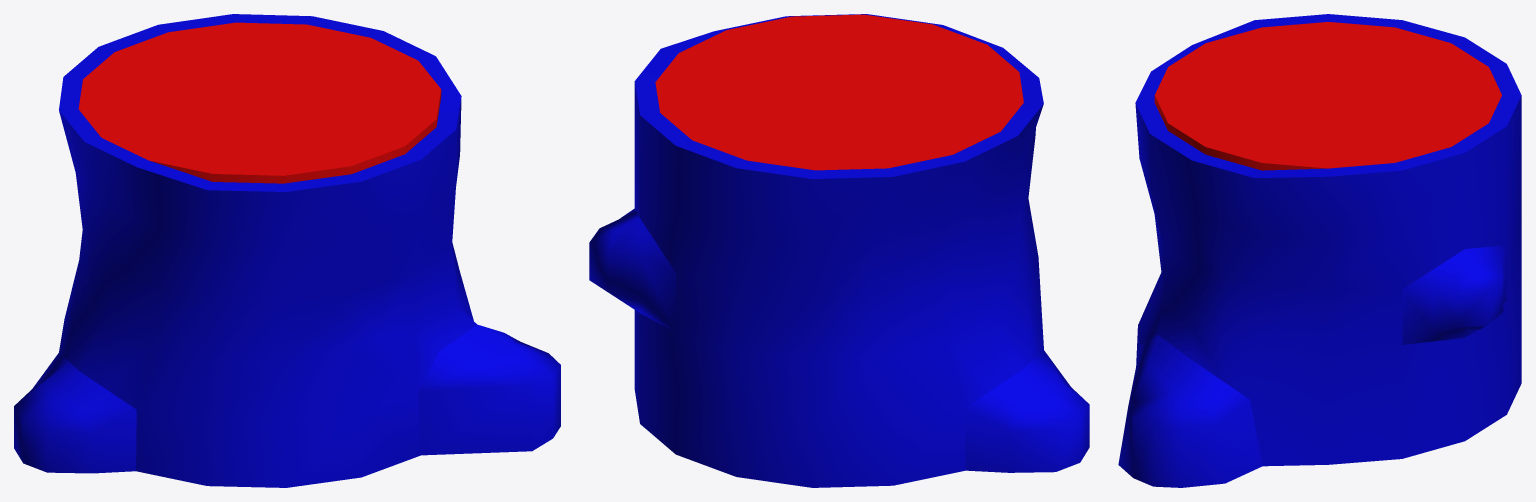
Rendered from penyok.fbx.
3 views of the same model, side by side, from view 1: azimuth 30°, elevation 25°; view 2: azimuth 150°, elevation 25°; view 3: azimuth 270°, elevation 25° (orthographic). The views are drawn at different scales.
Parts seen in each view (by area): view 1: penyok; view 2: penyok; view 3: penyok.
Boxes of the visible parts, bbox=[...] form: penyok: bbox=[14, 14, 560, 487]; penyok: bbox=[589, 14, 1089, 487]; penyok: bbox=[1118, 14, 1521, 487].
Bounding box in the file's own units: 156 × 103 × 128.
